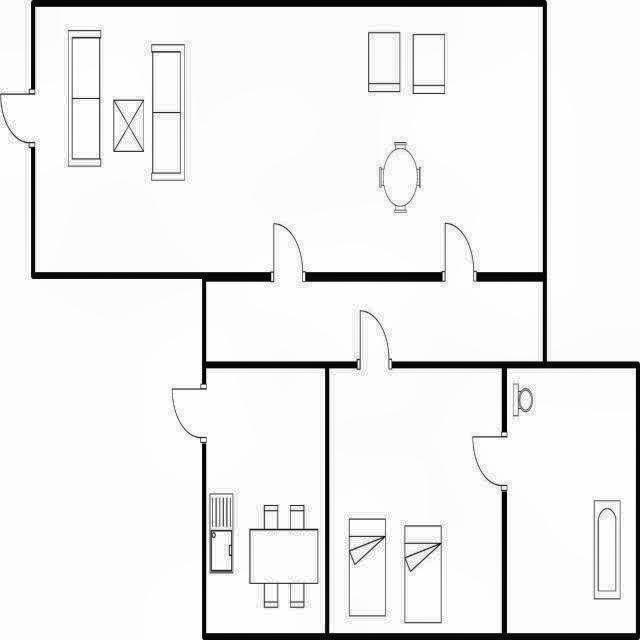room: (35, 7, 543, 272), (329, 368, 502, 633), (507, 369, 636, 633), (206, 368, 325, 633), (206, 282, 543, 361)
